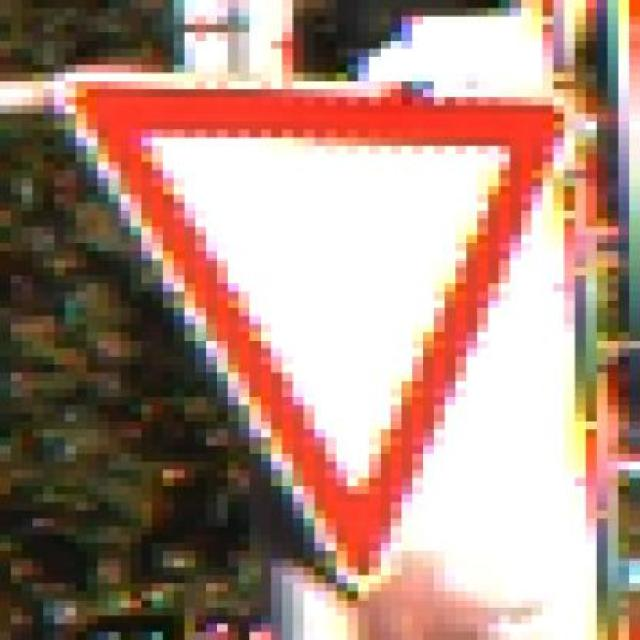Give Way: (32, 57, 565, 608)
